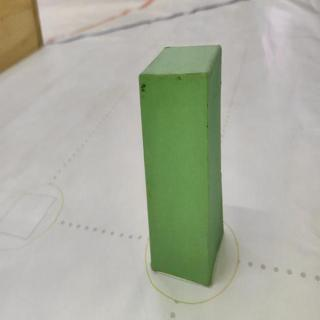greenbox: (137, 44, 225, 289)
